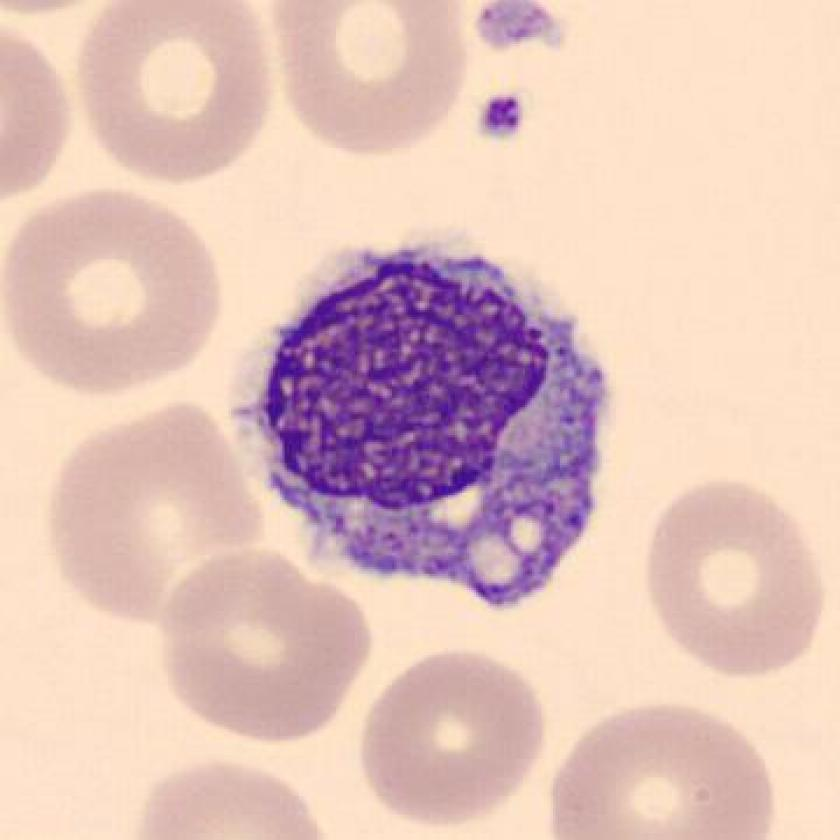monocyte: (235, 210, 627, 631)
